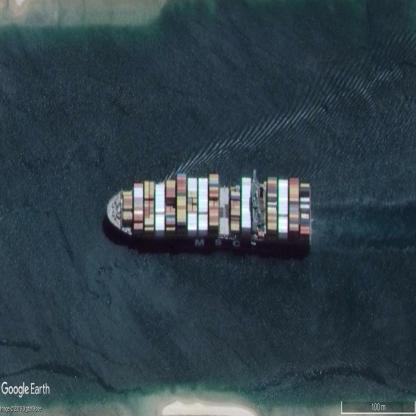ship: (107, 175, 311, 250)
